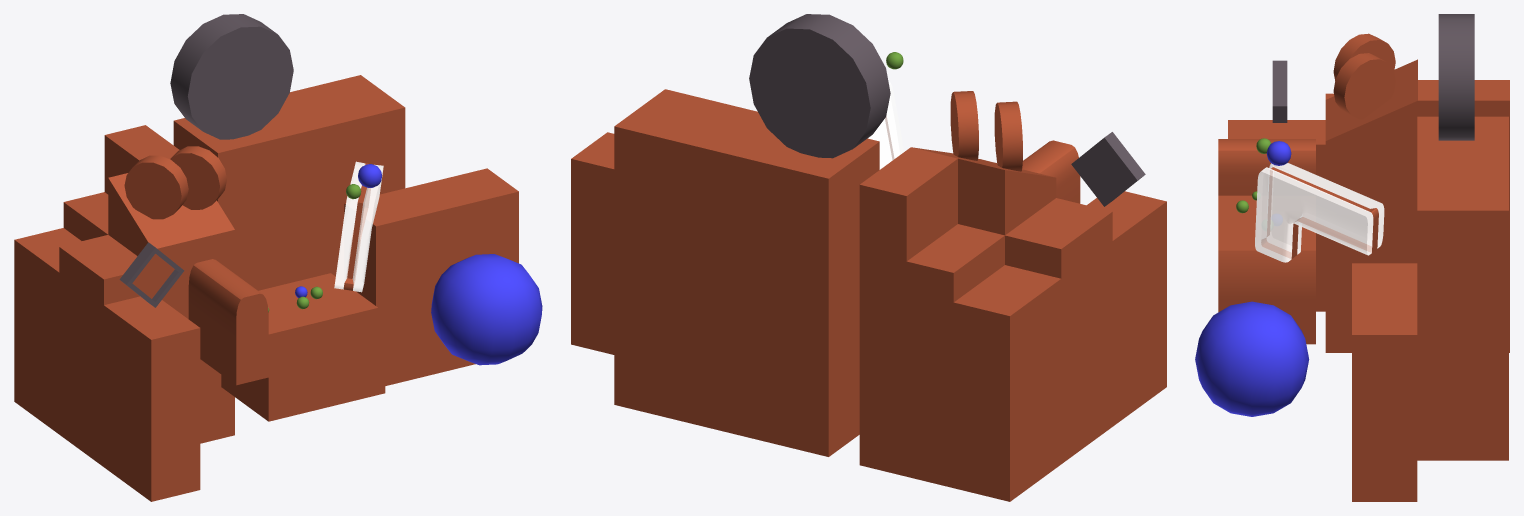
The model's file is modelWithAnim.gltf.
3 renders of one model, left to right at view 1: azimuth 30°, elevation 25°; view 2: azimuth 150°, elevation 25°; view 3: azimuth 270°, elevation 25°, orthographic. The views are drawn at different scales.
Visible parts, largest first — view 1: Cube, Cube.001, Cube.003, Cylinder, Cube.005, Cube.002, Cylinder.002, Cylinder.001, Cube.010; view 2: Cube, Cube.001, Cylinder, Cube.010, Cube.003, Cylinder.001, Cylinder.002, Cube.002; view 3: Cube.001, Cube, Cube.003, Cube.005, Cube.002, Cylinder, Cylinder.001, Cylinder.002, Cube.010, Cube.006.
Part boxes in pixels (x1,y1,x2,y2): Cube: [14, 125, 234, 501]; Cube.001: [173, 75, 518, 385]; Cube.003: [188, 259, 385, 421]; Cylinder: [170, 14, 293, 139]; Cube.005: [431, 254, 542, 365]; Cube.002: [334, 161, 383, 292]; Cylinder.002: [124, 155, 188, 219]; Cylinder.001: [170, 146, 226, 209]; Cube.010: [119, 242, 184, 307]; Cube: [859, 147, 1166, 501]; Cube.001: [571, 89, 879, 456]; Cylinder: [749, 14, 890, 158]; Cube.010: [1071, 132, 1145, 206]; Cube.003: [1022, 140, 1080, 203]; Cylinder.001: [950, 91, 978, 160]; Cylinder.002: [994, 101, 1022, 171]; Cube.002: [756, 81, 904, 169]; Cube.001: [1352, 116, 1508, 501]; Cube: [1228, 59, 1509, 352]; Cube.003: [1218, 139, 1315, 344]; Cube.005: [1195, 301, 1309, 416]; Cube.002: [1255, 163, 1384, 262]; Cylinder: [1438, 14, 1474, 140]; Cylinder.001: [1333, 53, 1395, 119]; Cylinder.002: [1333, 33, 1395, 80]; Cube.010: [1272, 60, 1287, 122]; Cube.006: [1266, 141, 1291, 165].
Bounding box in the file's own units: 3.93 × 3.07 × 2.41.
